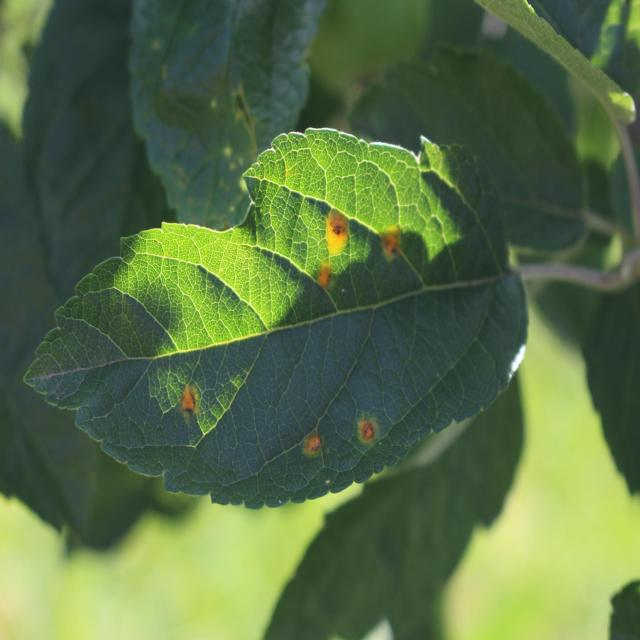Rust: (371, 205, 401, 283), (323, 193, 355, 261), (179, 368, 210, 423), (300, 428, 322, 470), (356, 411, 379, 451), (308, 262, 335, 296)
